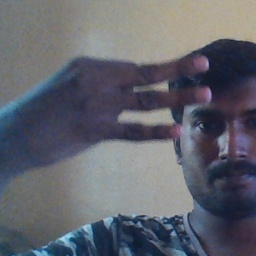K: (16, 54, 212, 153)
